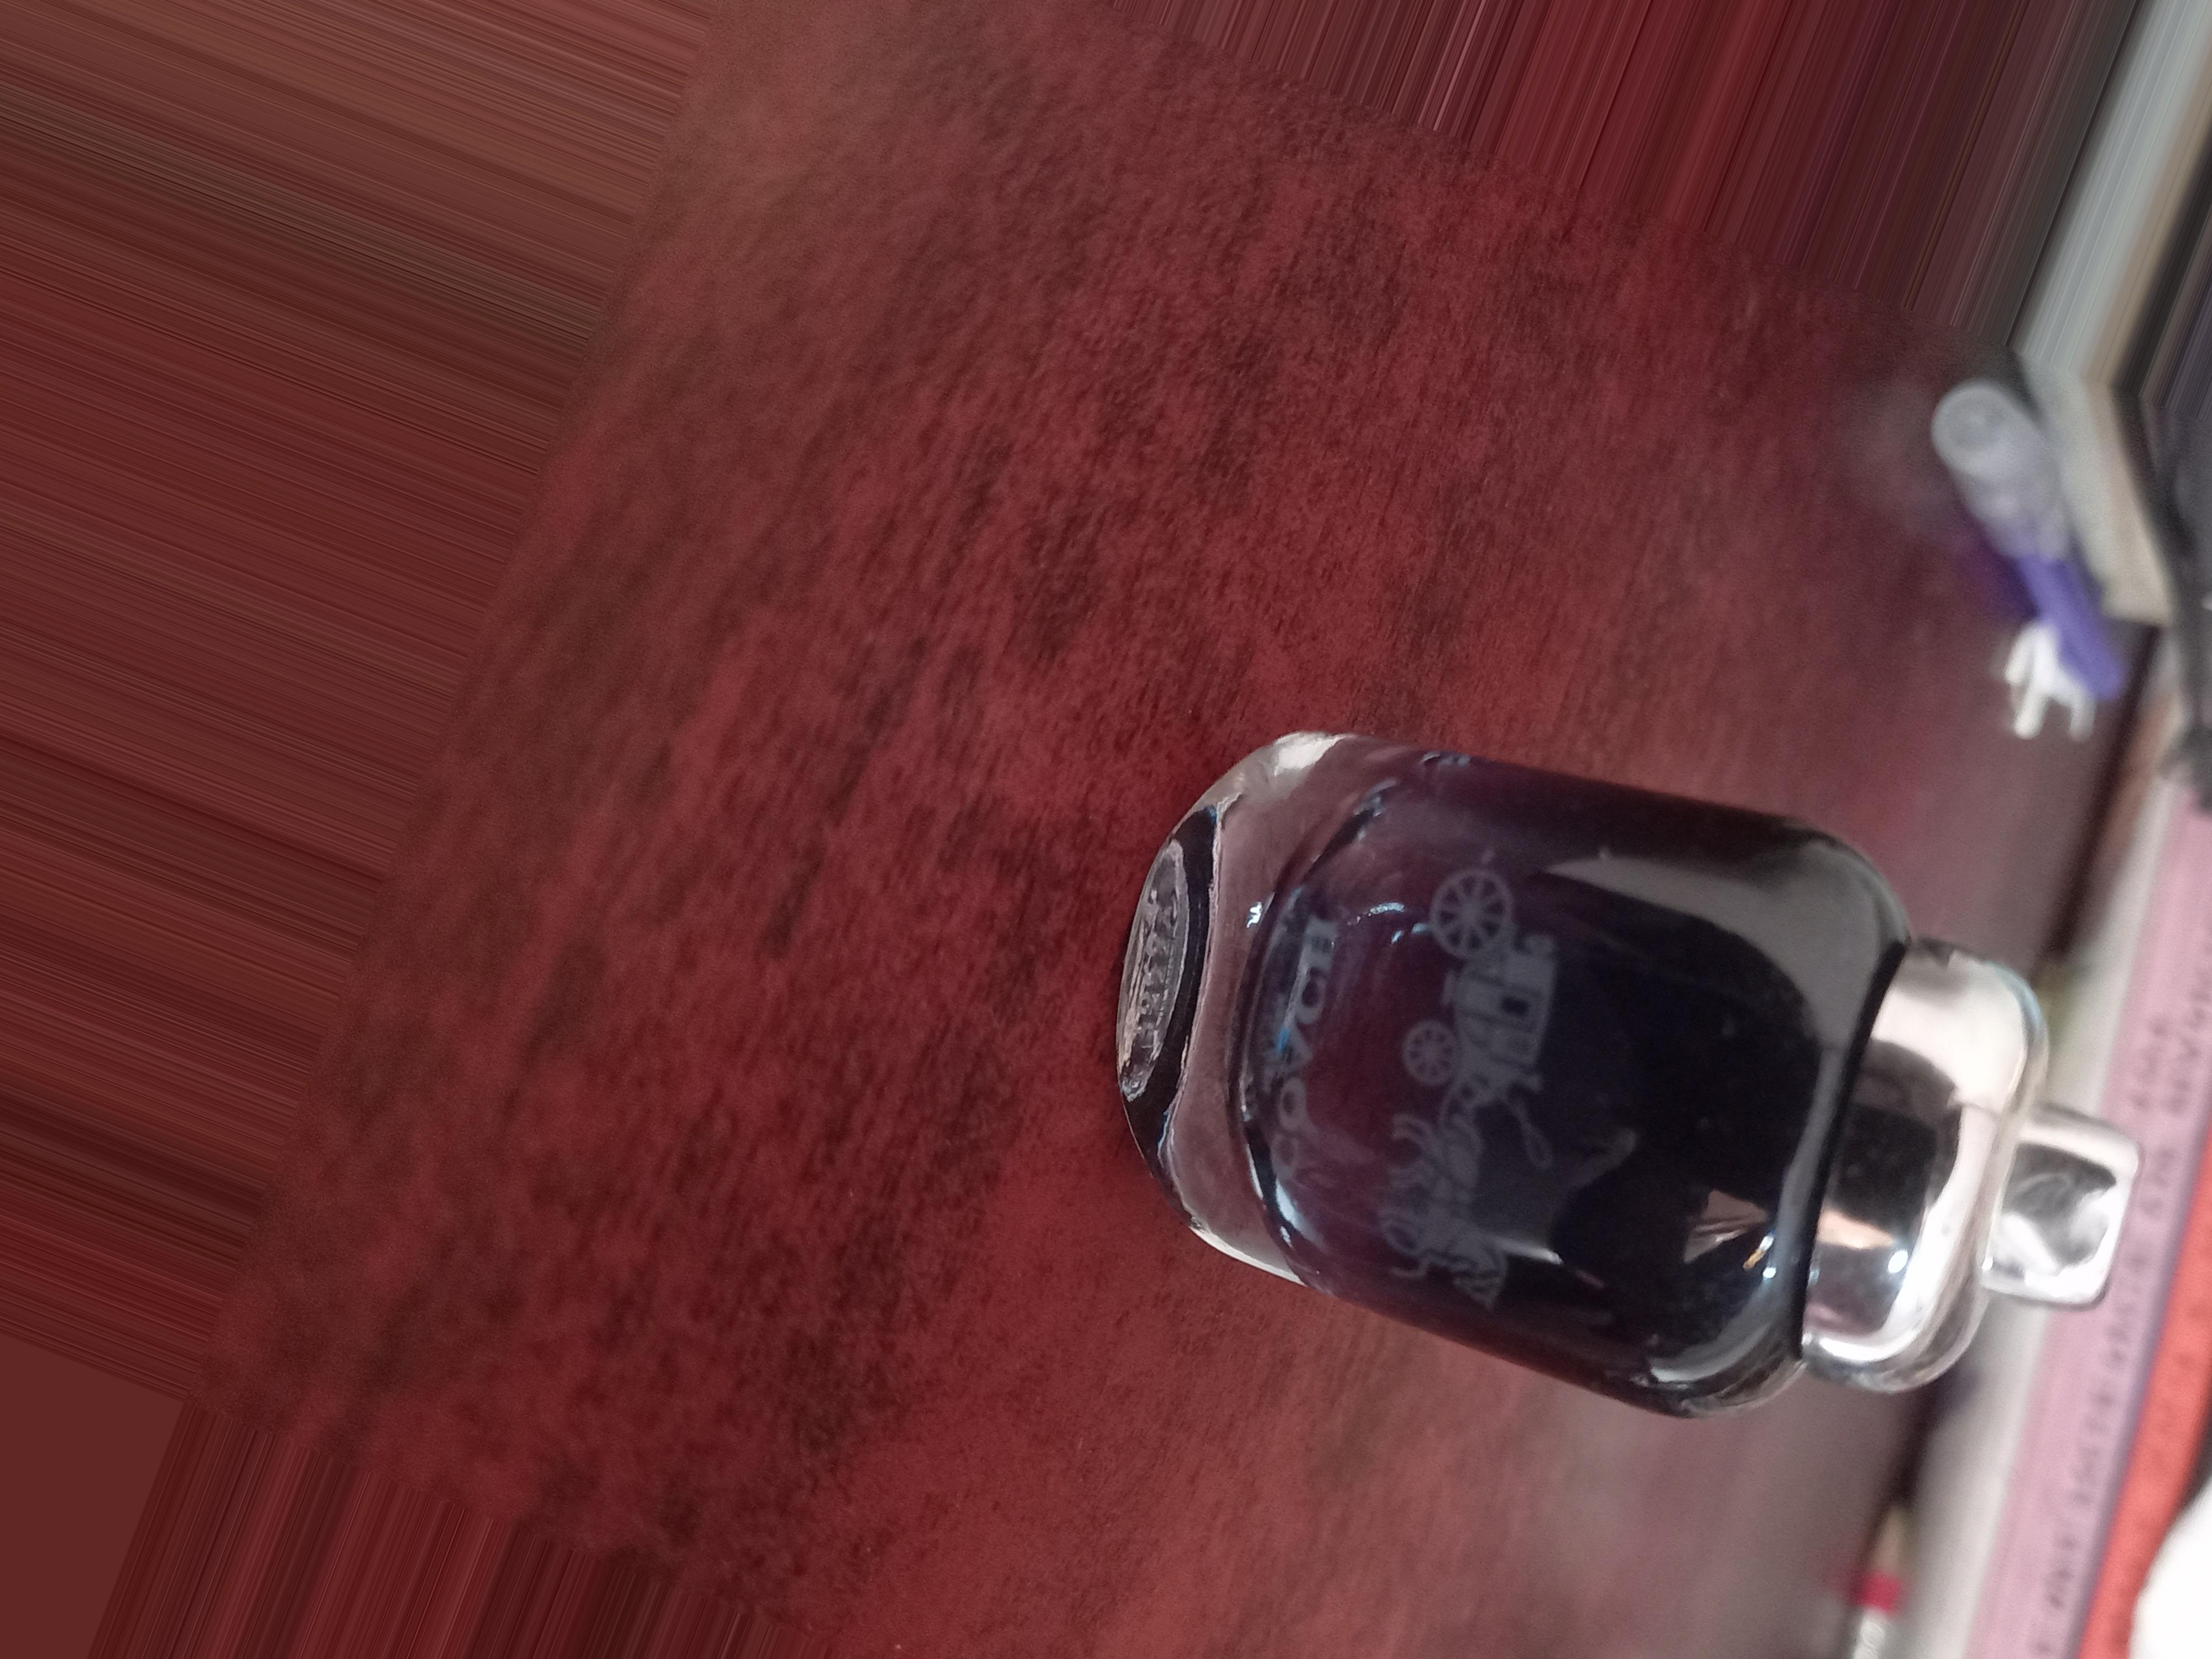perfume: (1049, 709, 2142, 1443)
